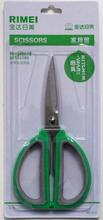scissor: (13, 56, 92, 213)
